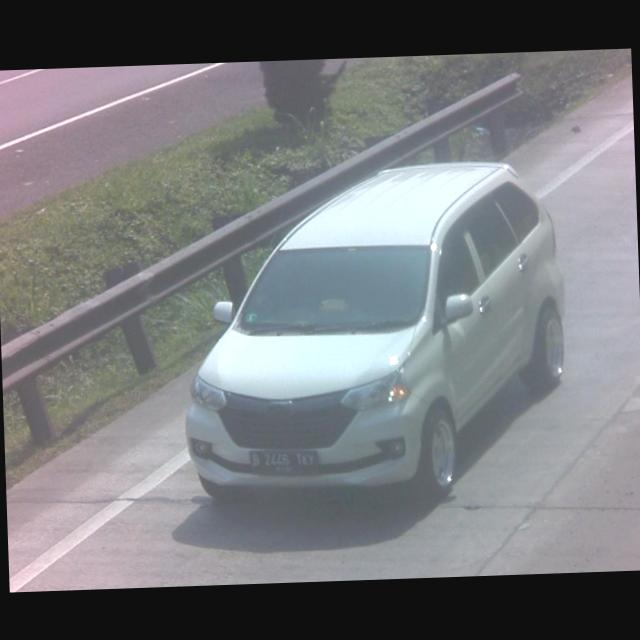plate: (243, 446, 320, 481)
